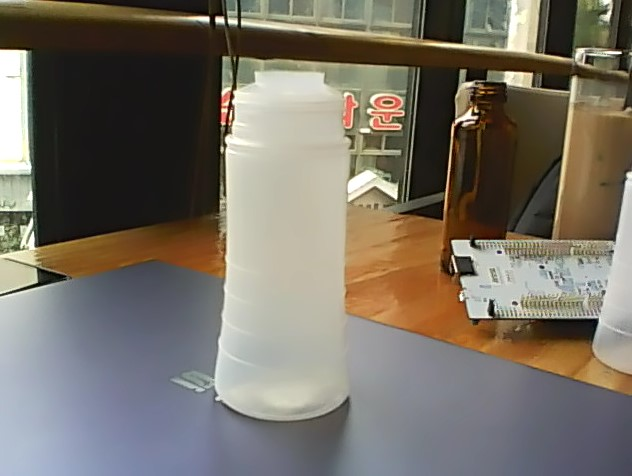Plastic: (212, 66, 351, 424)
